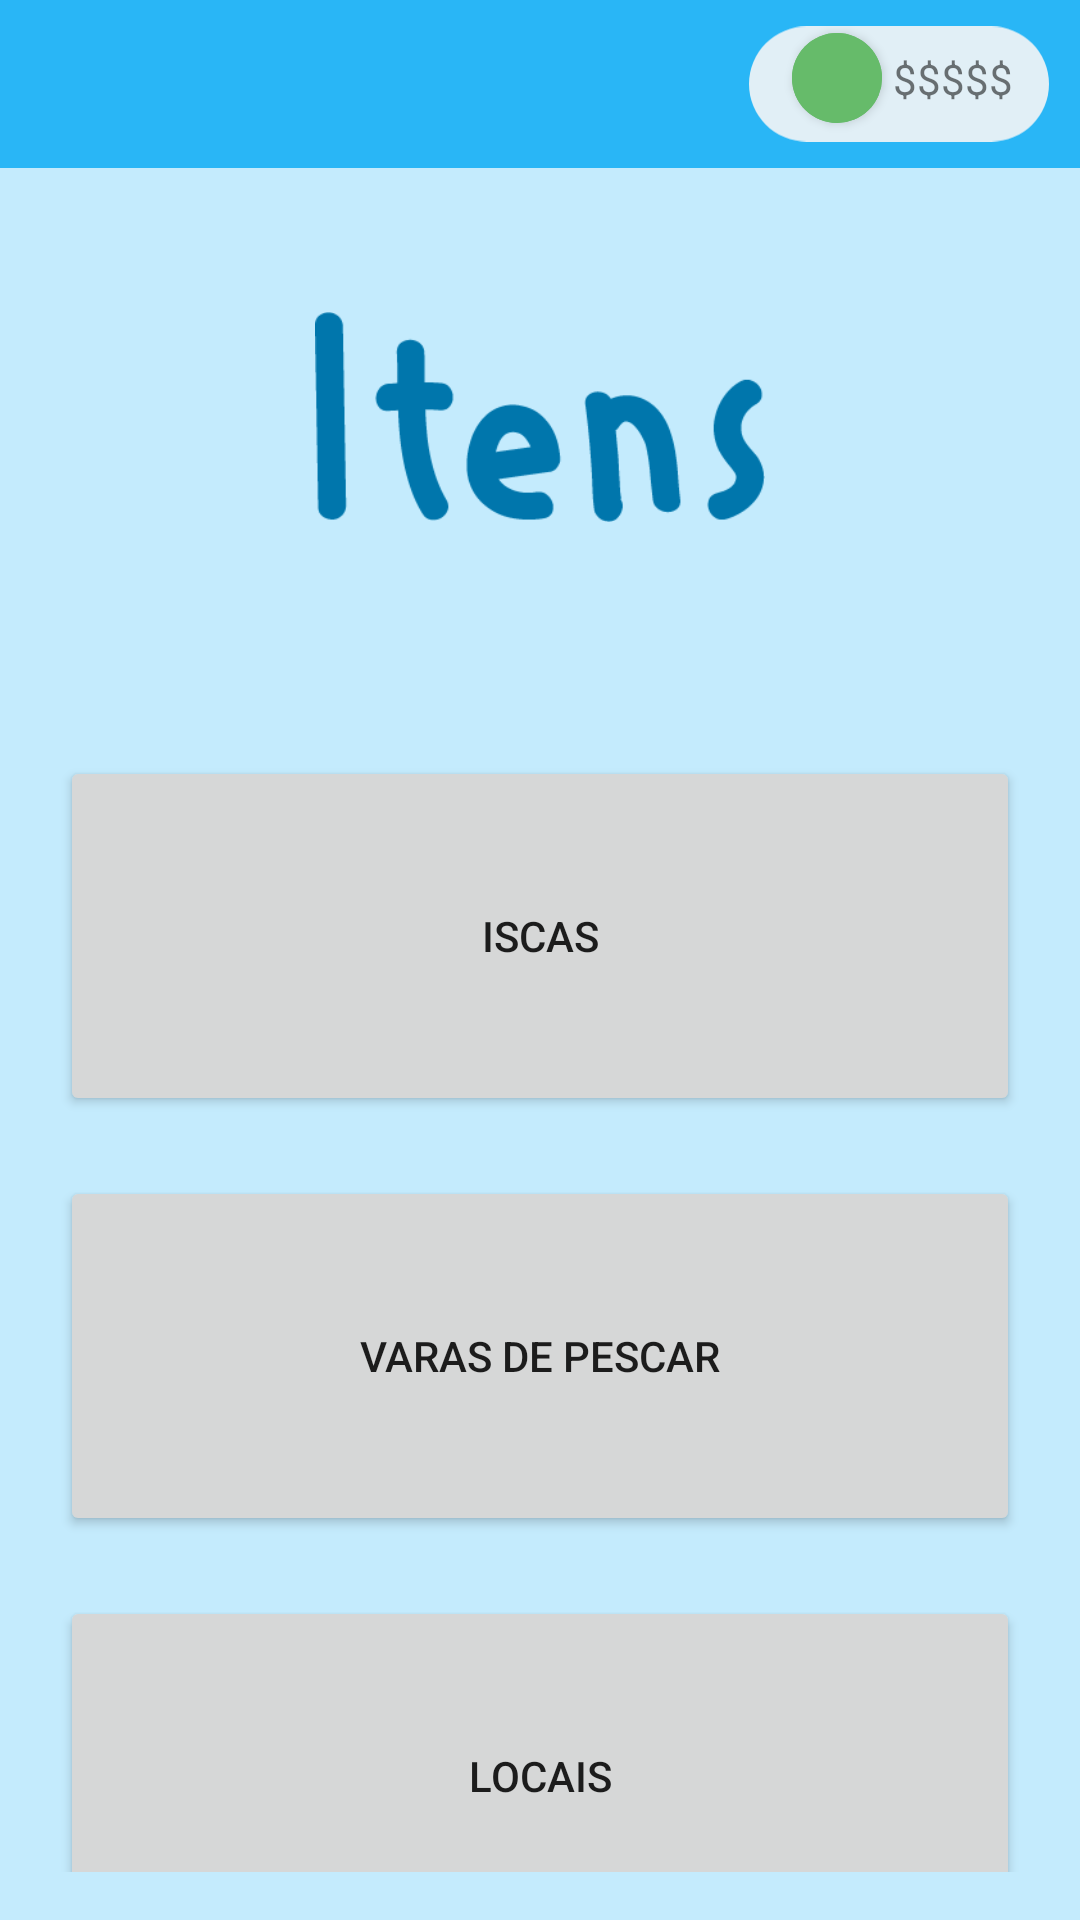

Named icons in this screenshot (1080px×1920px) and their bounding boxes, {"left": x1, "top": y1, "right": x2, "bottom": y2}:
moneyfield: {"left": 749, "top": 26, "right": 1049, "bottom": 142}
